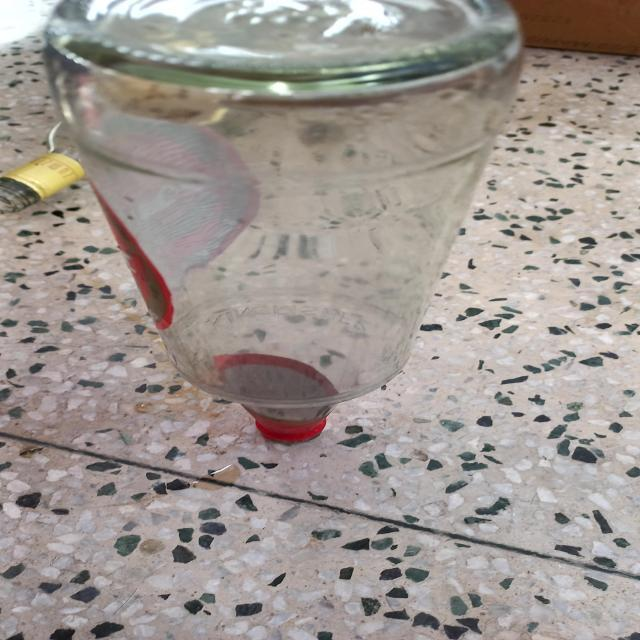Glass: (43, 0, 525, 445)
